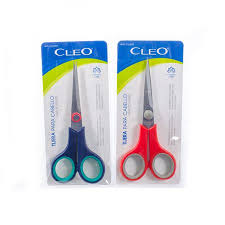tihiras: (49, 57, 108, 184), (120, 56, 178, 183)
